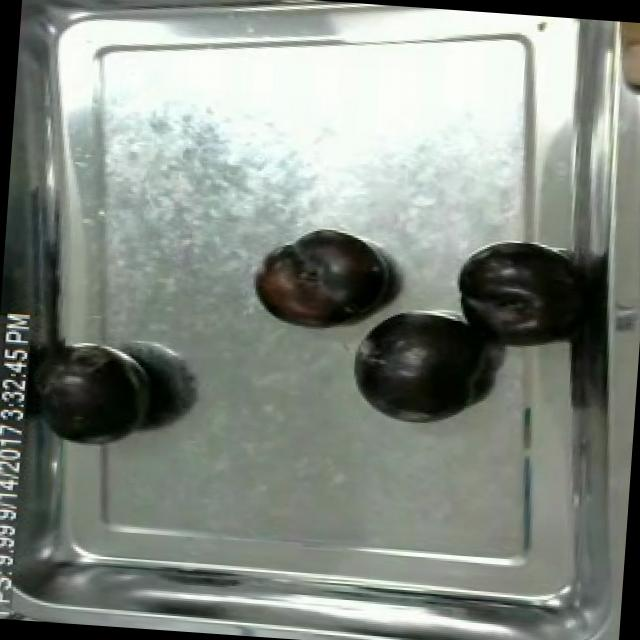Fruit: (345, 304, 487, 432), (26, 332, 170, 457), (244, 227, 396, 337), (448, 239, 580, 338), (594, 19, 640, 97)
